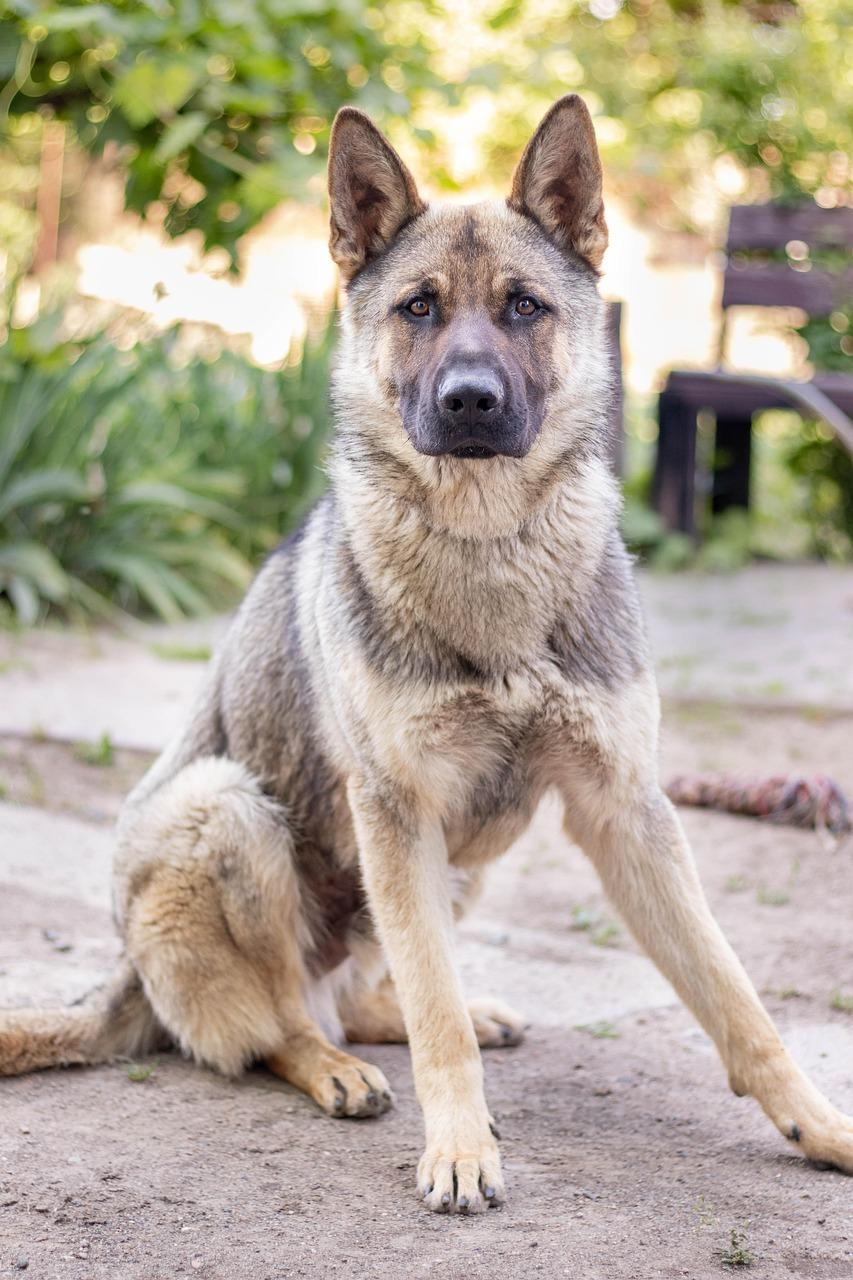german_shepherd: (341, 102, 612, 514)
